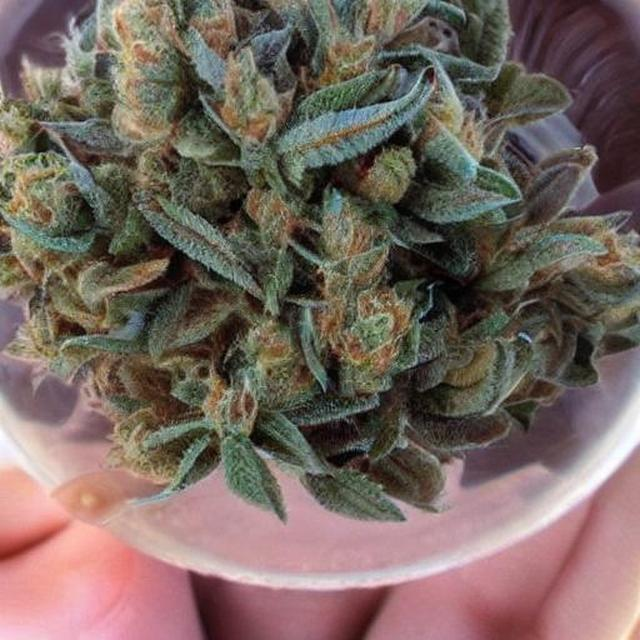Marijuana Plant: (1, 1, 640, 525)
